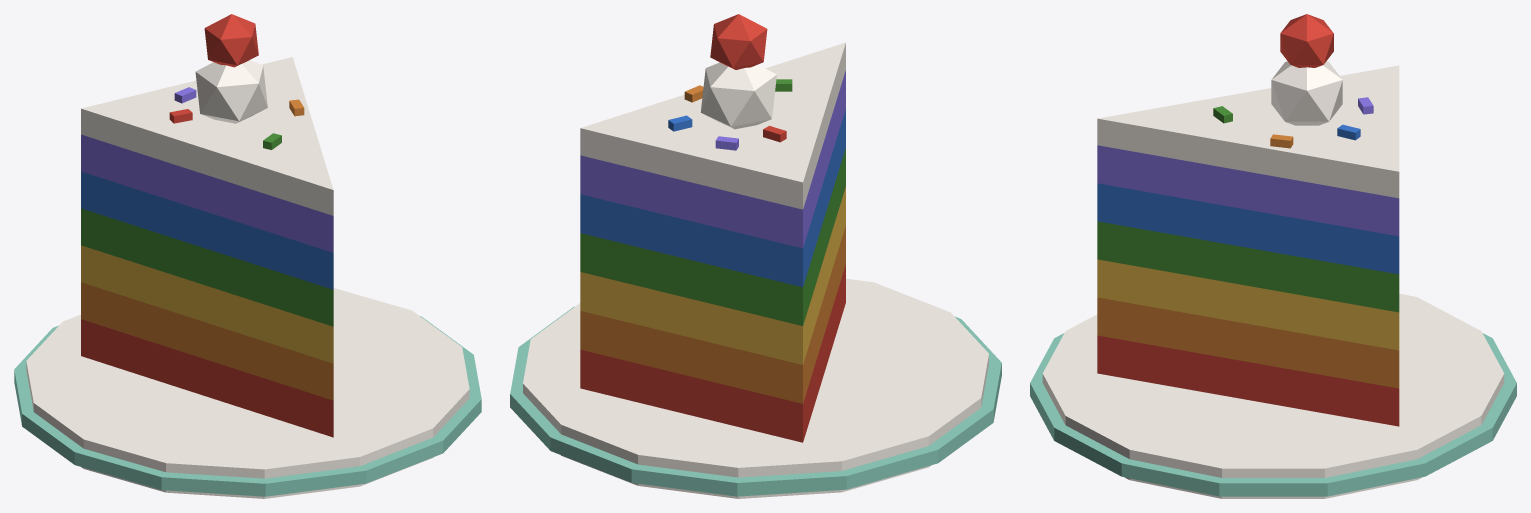
The model's file is CatCafe_Menu_RainbowCake.glb.
3 renders of one model, left to right at view 1: azimuth 30°, elevation 25°; view 2: azimuth 150°, elevation 25°; view 3: azimuth 270°, elevation 25°, orthographic. The views are drawn at different scales.
Visible parts, largest first — view 1: CatCafe_Menu_RainbowCake, CatCafe_Menu_RainbowCake_Plate; view 2: CatCafe_Menu_RainbowCake, CatCafe_Menu_RainbowCake_Plate; view 3: CatCafe_Menu_RainbowCake, CatCafe_Menu_RainbowCake_Plate.
Boxes of the visible parts, x1,y1,x2,y2 form: CatCafe_Menu_RainbowCake: (81,14,333,437); CatCafe_Menu_RainbowCake_Plate: (14,288,481,498); CatCafe_Menu_RainbowCake: (580,14,845,442); CatCafe_Menu_RainbowCake_Plate: (510,278,1001,498); CatCafe_Menu_RainbowCake: (1097,14,1399,426); CatCafe_Menu_RainbowCake_Plate: (1030,293,1516,498).
Bounding box in the file's own units: 1.13 × 1.07 × 1.16.
Materials: 1 (1 with a texture image).
